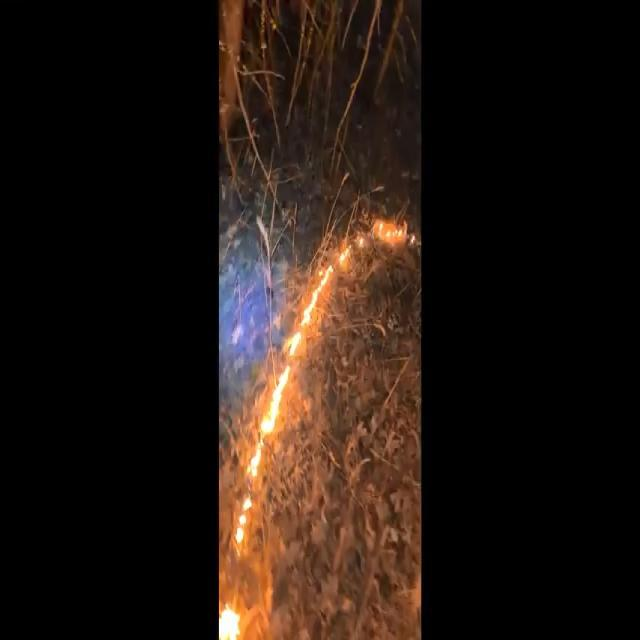Fire: (222, 200, 416, 640)
